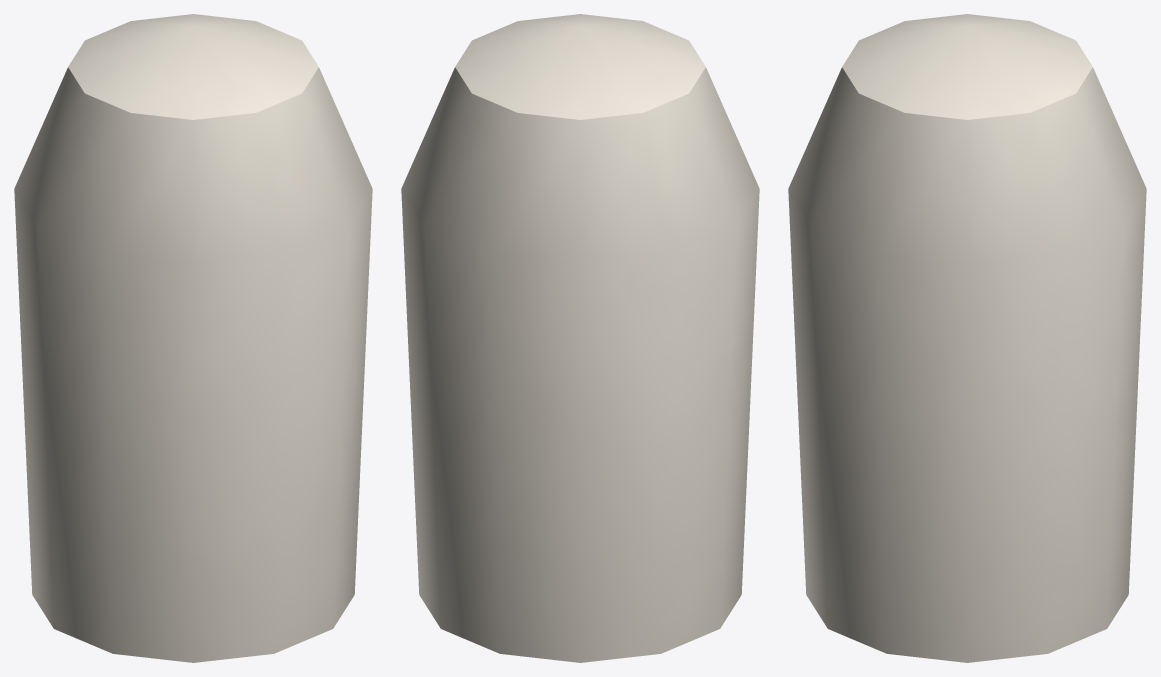
The model's file is SM_Salt_Shaker.fbx.
3 views of the same model, side by side, from view 1: azimuth 30°, elevation 25°; view 2: azimuth 150°, elevation 25°; view 3: azimuth 270°, elevation 25° (orthographic).
Parts seen in each view (by area): view 1: SM_Salt_Shaker; view 2: SM_Salt_Shaker; view 3: SM_Salt_Shaker.
Part boxes in pixels (bbox=[...]): SM_Salt_Shaker: bbox=[14, 14, 372, 662]; SM_Salt_Shaker: bbox=[401, 14, 759, 662]; SM_Salt_Shaker: bbox=[788, 14, 1146, 662].
Bounding box in the file's own units: 0.04 × 0.07 × 0.04.
1 material, 1 textured.
